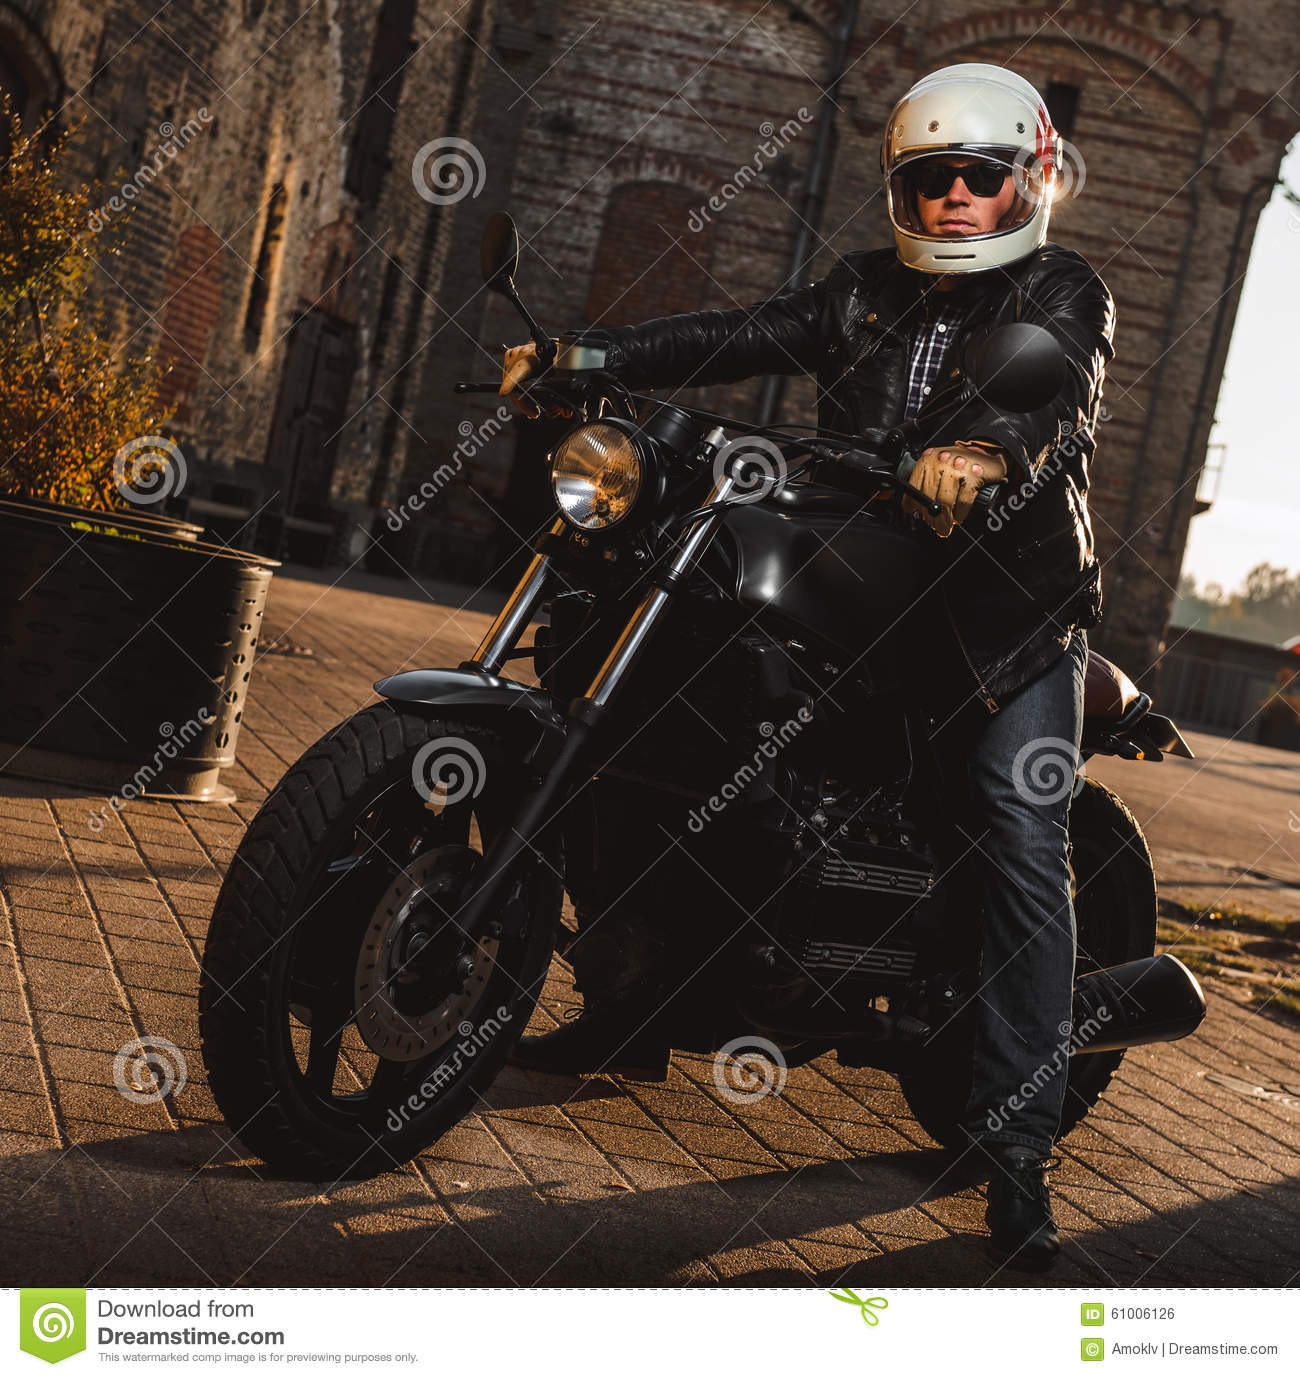helmet: (875, 70, 1067, 280)
